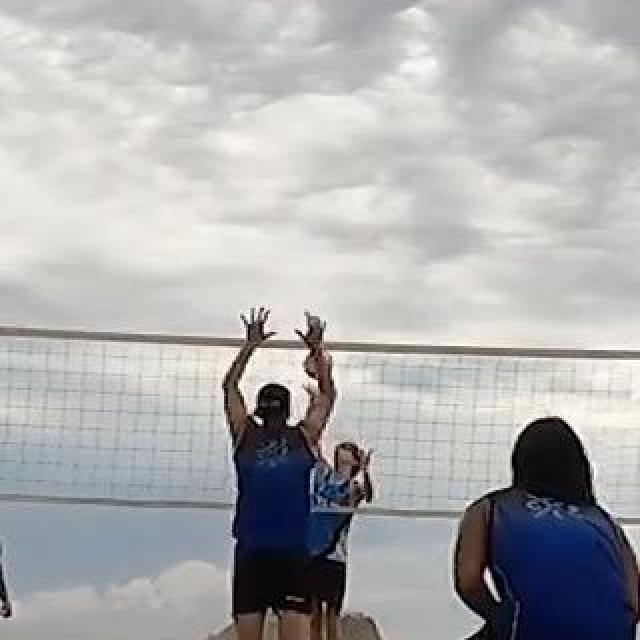volleyball: (302, 349, 334, 379)
